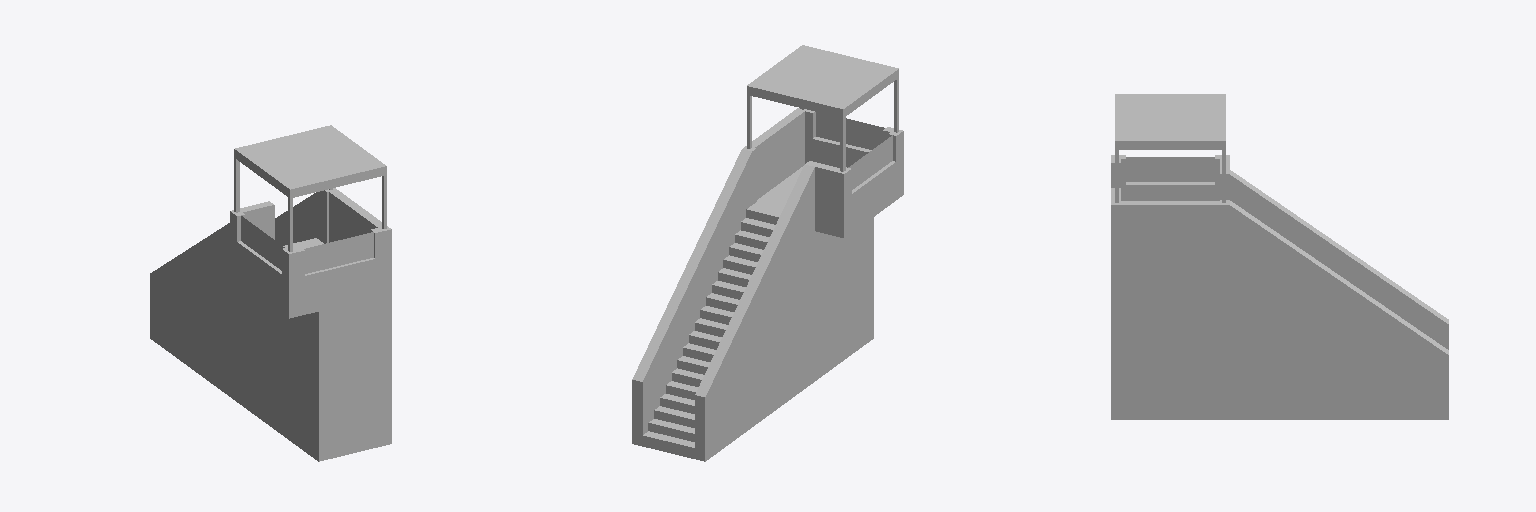
File: Cabin-H.obj
3 renders of one model, left to right at view 1: azimuth 30°, elevation 25°; view 2: azimuth 150°, elevation 25°; view 3: azimuth 270°, elevation 25°, orthographic.
Visible parts, largest first — view 1: Cube_Cube.001; view 2: Cube_Cube.001; view 3: Cube_Cube.001.
Boxes of the visible parts, x1,y1,x2,y2 form: Cube_Cube.001: [150, 125, 391, 461]; Cube_Cube.001: [632, 45, 903, 461]; Cube_Cube.001: [1111, 94, 1448, 419].
Size of the model in its own units: 2 by 5.17 by 5.7.